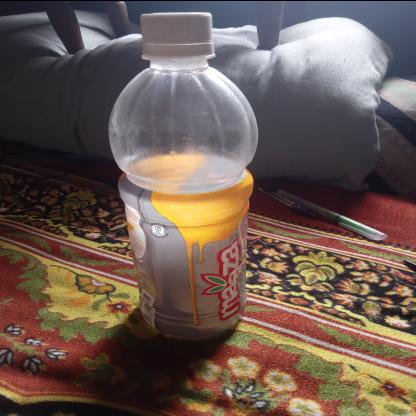bottle: (1, 78, 407, 199)
